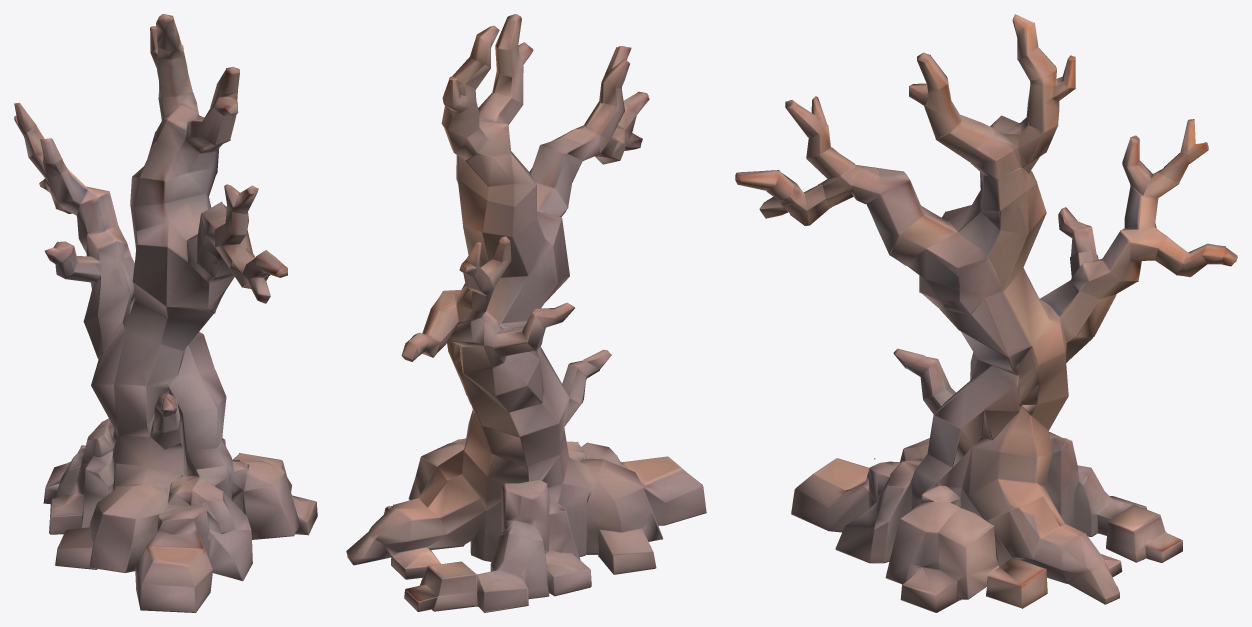
File: dead_tree.glb
The picture shows the model from 3 angles, left to right: view 1: azimuth 30°, elevation 25°; view 2: azimuth 150°, elevation 25°; view 3: azimuth 270°, elevation 25°; orthographic projection. The views are drawn at different scales.
Parts seen in each view (by area): view 1: tripo_node_cabf1c07-dc22-4e83-8c9f-1f59ab1ca413; view 2: tripo_node_cabf1c07-dc22-4e83-8c9f-1f59ab1ca413; view 3: tripo_node_cabf1c07-dc22-4e83-8c9f-1f59ab1ca413.
Boxes of the visible parts, x1,y1,x2,y2 form: tripo_node_cabf1c07-dc22-4e83-8c9f-1f59ab1ca413: (14, 14, 317, 612); tripo_node_cabf1c07-dc22-4e83-8c9f-1f59ab1ca413: (346, 14, 706, 612); tripo_node_cabf1c07-dc22-4e83-8c9f-1f59ab1ca413: (735, 14, 1237, 612).
Size of the model in its own units: 0.5147 by 1 by 0.8434.
1 material, 1 textured.
